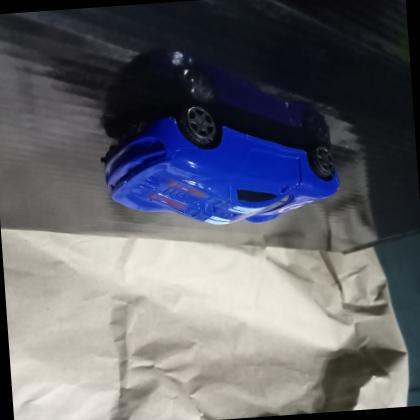Car: (92, 89, 348, 238)
